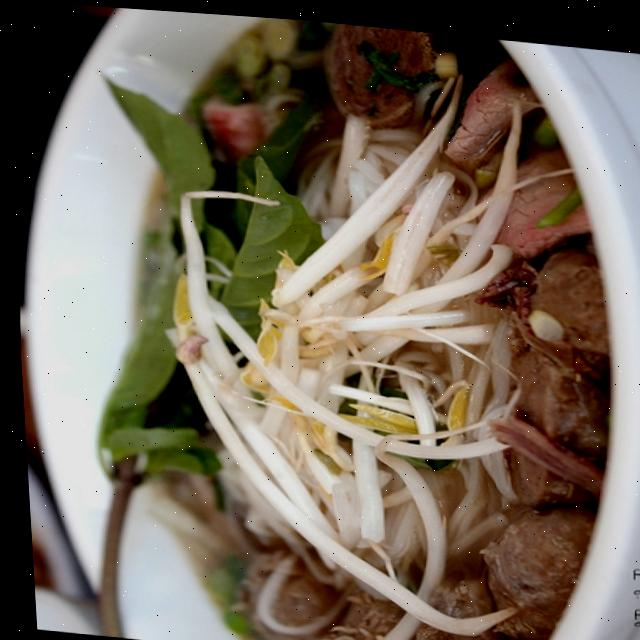面条主食: (7, 8, 628, 640)
